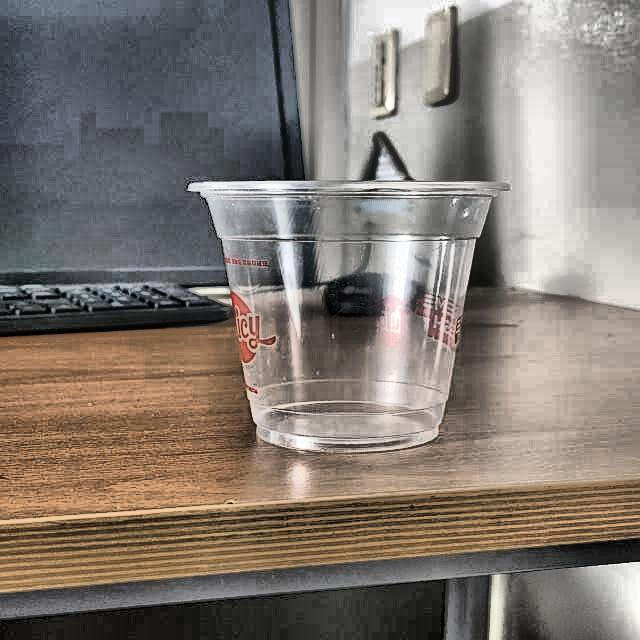plastic cup: (186, 180, 512, 451)
